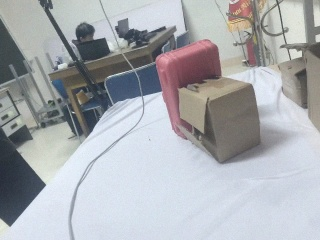box: (179, 78, 260, 163), (279, 41, 320, 149)
